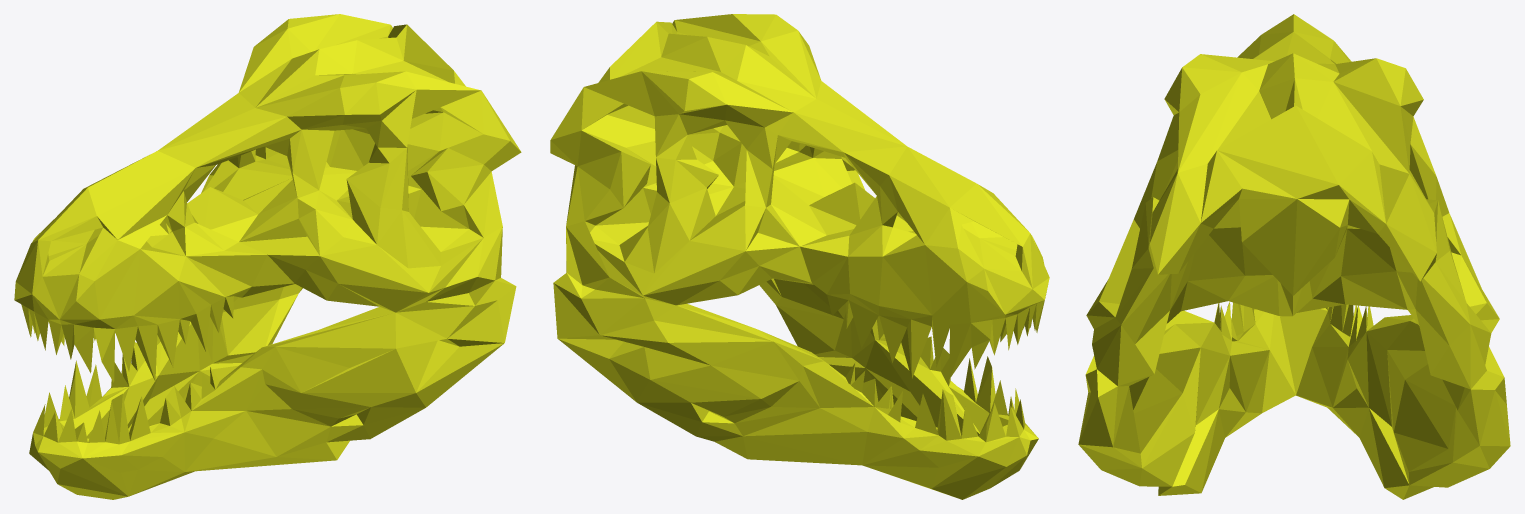
The model's file is decimated_trex_skull.gltf.
3 views of the same model, side by side, from view 1: azimuth 30°, elevation 25°; view 2: azimuth 150°, elevation 25°; view 3: azimuth 270°, elevation 25° (orthographic). The views are drawn at different scales.
Parts seen in each view (by area): view 1: T-Rex Skull; view 2: T-Rex Skull; view 3: T-Rex Skull.
Boxes of the visible parts, bbox=[...] form: T-Rex Skull: bbox=[14, 14, 521, 499]; T-Rex Skull: bbox=[550, 14, 1049, 499]; T-Rex Skull: bbox=[1078, 14, 1510, 499].
Size of the model in its own units: 4.86 by 4.03 by 3.15.
